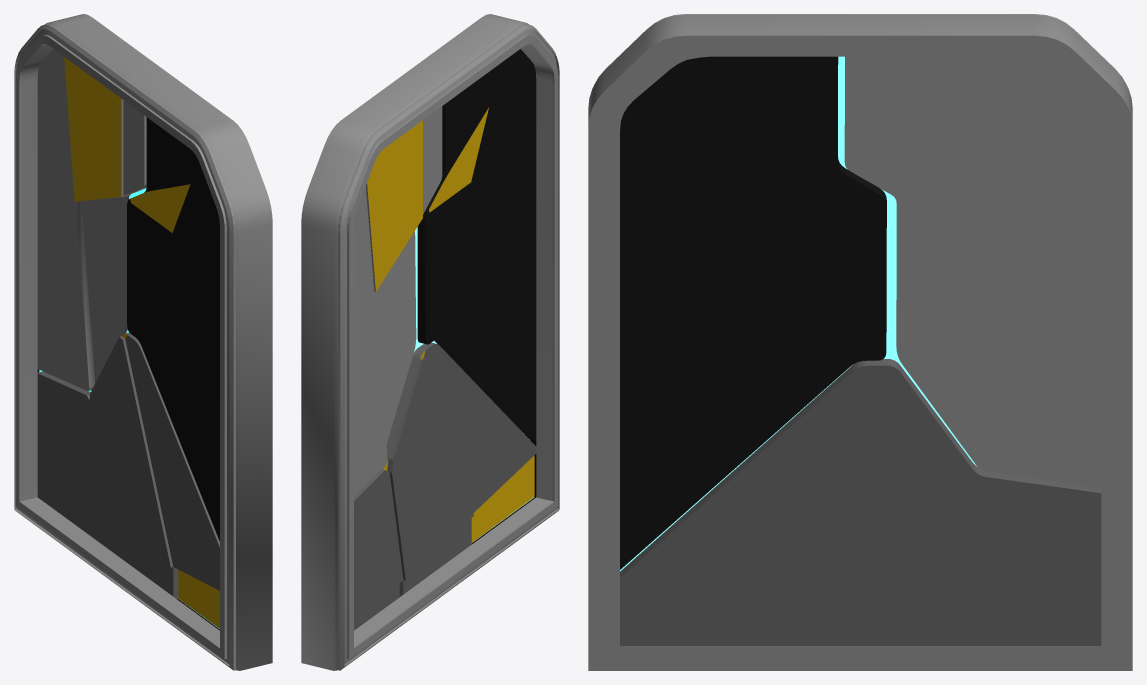
Rendered from porte_2.fbx.
The picture shows the model from 3 angles, left to right: view 1: azimuth 30°, elevation 25°; view 2: azimuth 150°, elevation 25°; view 3: azimuth 270°, elevation 25°; orthographic projection. The views are drawn at different scales.
Parts seen in each view (by area): view 1: Object001, Box022, Box024, Box023; view 2: Object001, Box023, Box022, Box024; view 3: Box023, Box022, Box024, Object001.
Boxes of the visible parts, x1,y1,x2,y2 form: Object001: (14,14,272,670); Box022: (37,330,219,628); Box024: (37,49,146,391); Box023: (127,117,219,541); Object001: (301,14,559,670); Box023: (415,49,536,440); Box022: (354,342,536,630); Box024: (354,106,442,496); Box023: (620,56,894,571); Box022: (620,359,1101,645); Box024: (844,56,1101,487); Object001: (588,14,1132,670).
Bounding box in the file's own units: 9.17 × 105 × 81.33.
